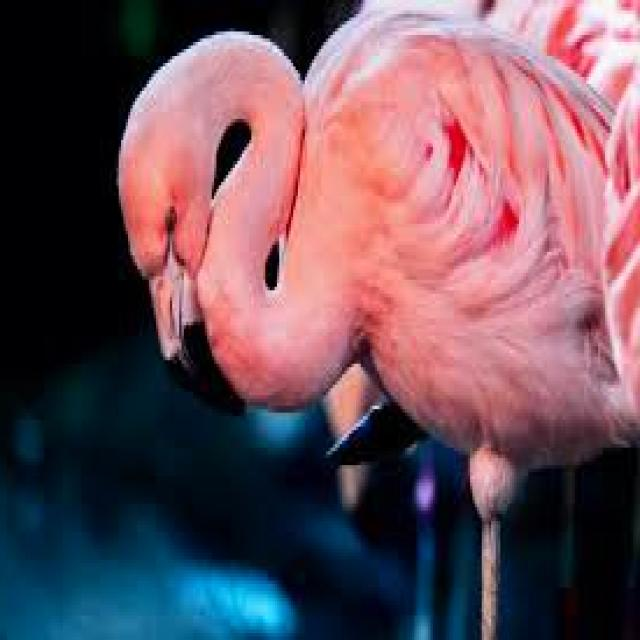flamingo: (121, 7, 640, 637)
